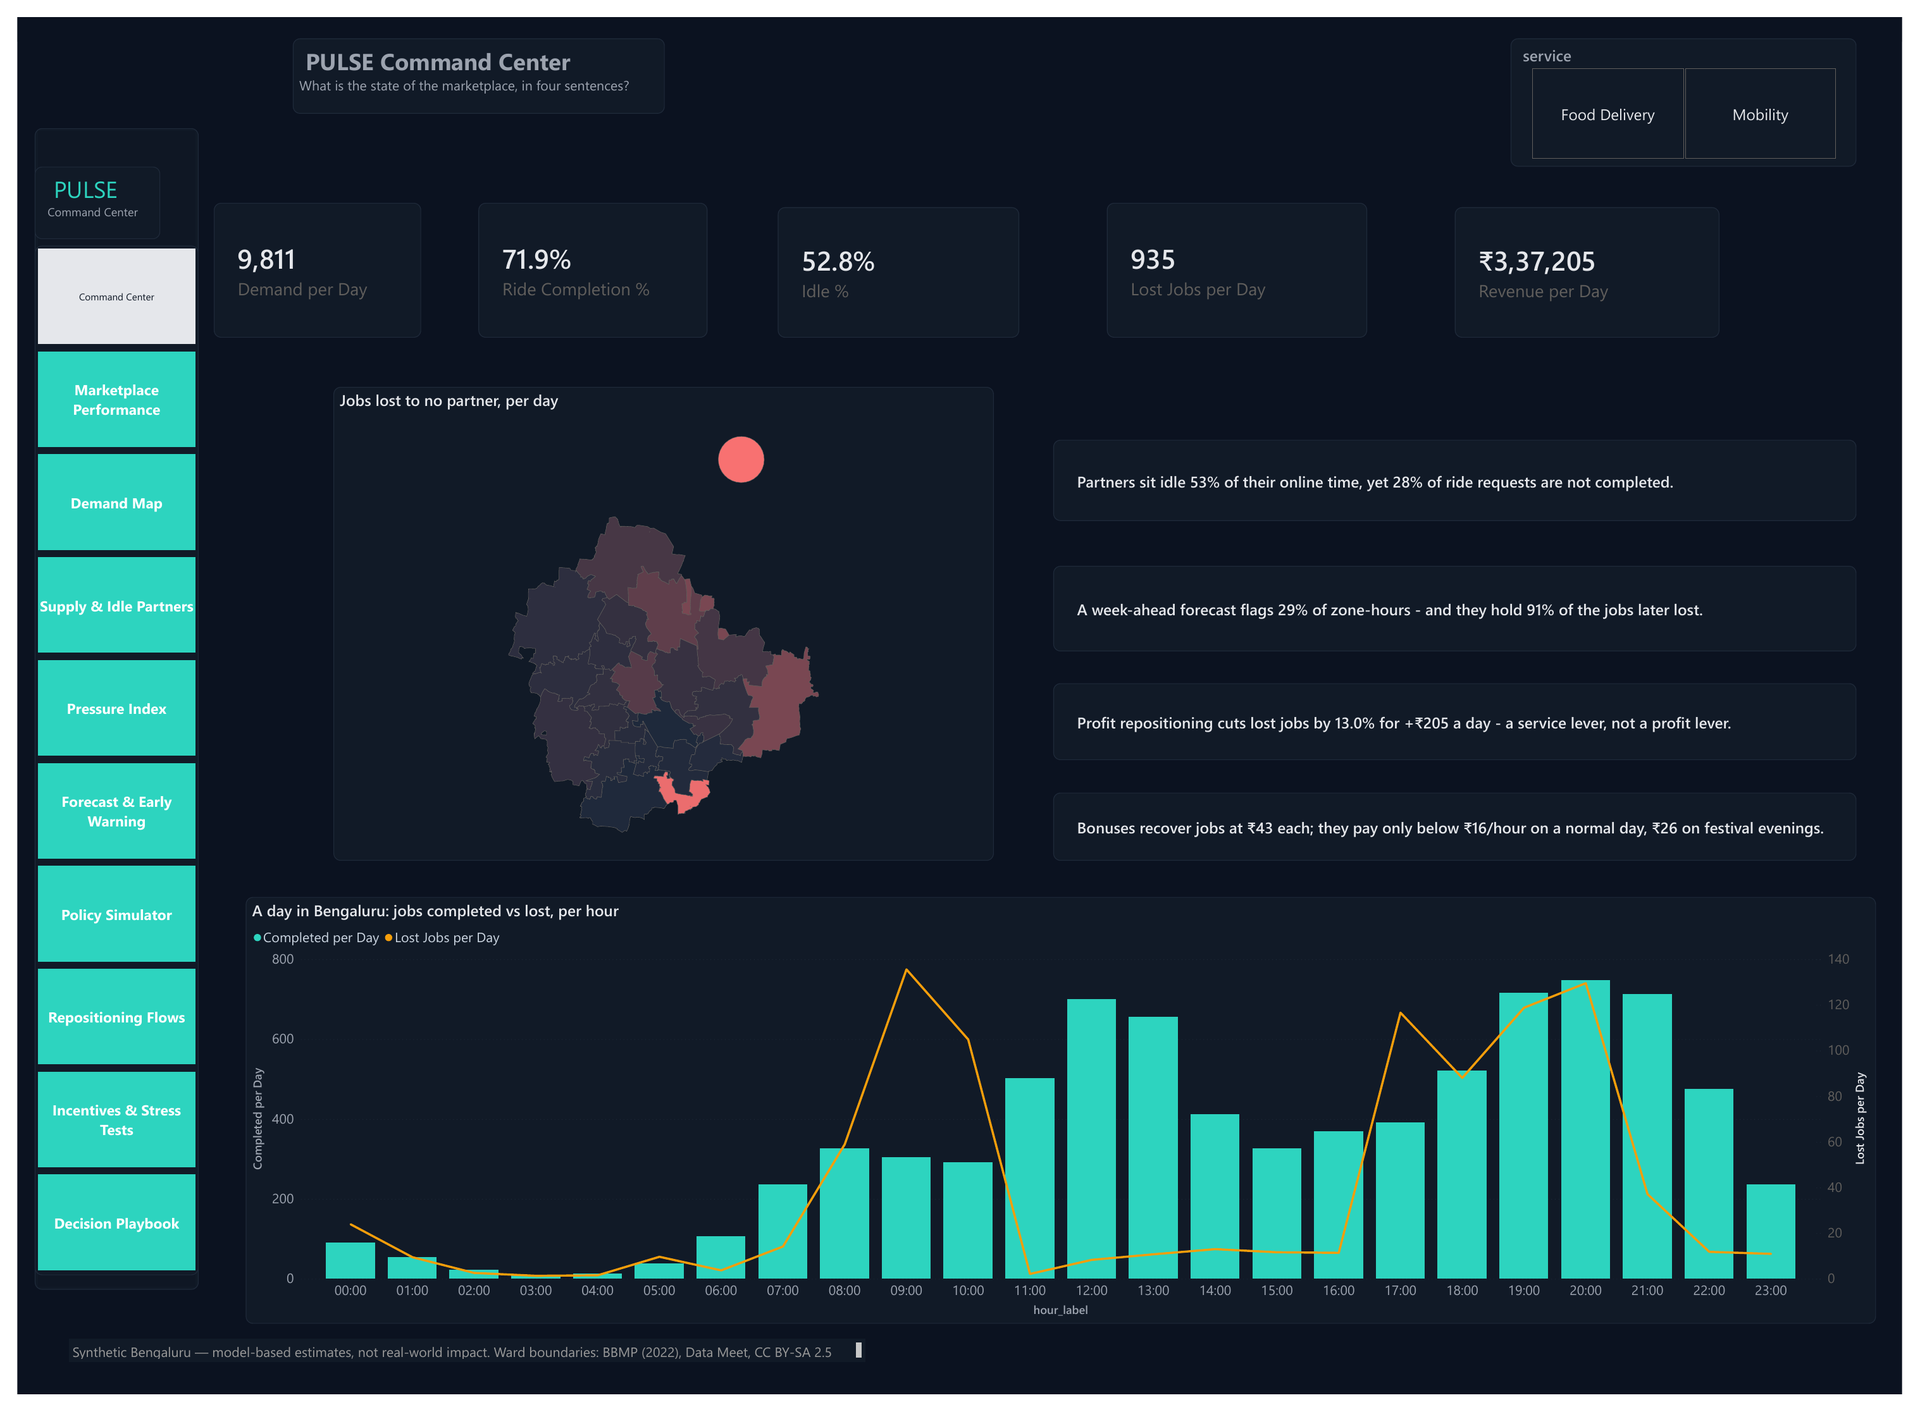

Layout of this report page (visuals, bound fields, positions):
{"tool":"powerbi","page":{"name":"Command Center","canvas":[2600,1900],"ordinal":0},"visuals":[{"type":"shape","box":[23.6,153.2,226.9,1603],"z":0},{"type":"textbox","box":[23.6,206.3,173.9,100.2],"z":1000},{"type":"textbox","box":[380.1,29.5,512.7,103.1],"z":2000},{"type":"textbox","box":[70.7,1824,1099.1,32.4],"z":3000},{"type":"cardVisual","fields":{"Data":["_Measures.Demand per Day"]},"box":[271.1,256.4,285.8,185.6],"z":4000},{"type":"cardVisual","fields":{"Data":["_Measures.Ride Completion %"]},"box":[636.5,256.4,315.3,185.6],"z":5000},{"type":"cardVisual","fields":{"Data":["_Measures.Lost Jobs per Day"]},"box":[1502.8,256.4,359.5,185.6],"z":6000},{"type":"cardVisual","fields":{"Data":["_Measures.Revenue per Day"]},"box":[1983.1,262.3,365.4,179.7],"z":7000},{"type":"cardVisual","fields":{"Data":["_Measures.Idle %"]},"box":[1049,262.3,333,179.7],"z":8000},{"type":"shapeMap","title":"Jobs lost to no partner, per day","fields":{"Category":["Dim_Zone.zone_code"],"Value":["_Measures.Lost Jobs per Day"]},"box":[436.1,509.8,910.5,654.2],"z":9000},{"type":"cardVisual","fields":{"Data":["_Measures.Headline Problem"]},"box":[1429.1,583.4,1107.9,112],"z":10000},{"type":"cardVisual","fields":{"Data":["_Measures.Headline Forecast"]},"box":[1429.1,757.3,1107.9,117.9],"z":11000},{"type":"cardVisual","fields":{"Data":["_Measures.Headline Optimizer"]},"box":[1429.1,919.4,1107.9,106.1],"z":12000},{"type":"cardVisual","fields":{"Data":["_Measures.Headline Incentives"]},"box":[1429.1,1069.6,1107.9,94.3],"z":13000},{"type":"lineStackedColumnComboChart","title":"A day in Bengaluru: jobs completed vs lost, per hour","fields":{"Category":["Dim_Time.hour_label"],"Y":["_Measures.Completed per Day"],"Y2":["_Measures.Lost Jobs per Day"]},"box":[315.3,1214,2248.3,589.3],"z":14000},{"type":"slicer","fields":{"Values":["Dim_Service.service_name"]},"box":[2059.7,29.5,477.4,176.8],"z":15000},{"type":"pageNavigator","box":[23.6,315.3,226.9,1420.3],"z":16000}]}

Visuals, with their boxes in screenshot pixels (x1, y1, x2, y2), scaled from the page's 2600x1900 canvas onto the 1920x1412 screenshot:
shape: l=17, t=114, r=185, b=1305
textbox: l=17, t=153, r=146, b=228
textbox: l=281, t=22, r=659, b=99
textbox: l=52, t=1356, r=864, b=1380
cardVisual - _Measures.Demand per Day: l=200, t=191, r=411, b=328
cardVisual - _Measures.Ride Completion %: l=470, t=191, r=703, b=328
cardVisual - _Measures.Lost Jobs per Day: l=1110, t=191, r=1375, b=328
cardVisual - _Measures.Revenue per Day: l=1464, t=195, r=1734, b=328
cardVisual - _Measures.Idle %: l=775, t=195, r=1021, b=328
"Jobs lost to no partner, per day" shapeMap: l=322, t=379, r=994, b=865
cardVisual - _Measures.Headline Problem: l=1055, t=434, r=1873, b=517
cardVisual - _Measures.Headline Forecast: l=1055, t=563, r=1873, b=650
cardVisual - _Measures.Headline Optimizer: l=1055, t=683, r=1873, b=762
cardVisual - _Measures.Headline Incentives: l=1055, t=795, r=1873, b=865
"A day in Bengaluru: jobs completed vs lost, per hour" lineStackedColumnComboChart: l=233, t=902, r=1893, b=1340
slicer - Dim_Service.service_name: l=1521, t=22, r=1874, b=153
pageNavigator: l=17, t=234, r=185, b=1290
